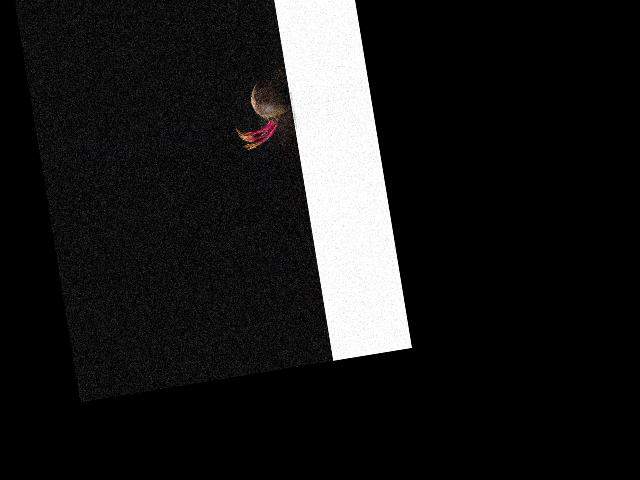beet: (227, 63, 297, 150)
